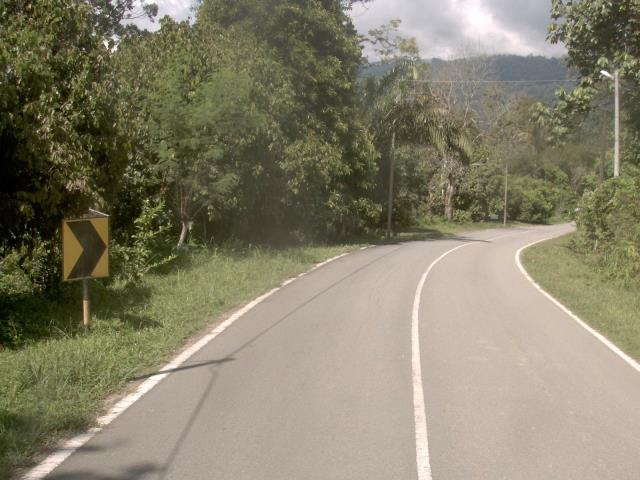traffic_sign: (52, 206, 118, 292)
